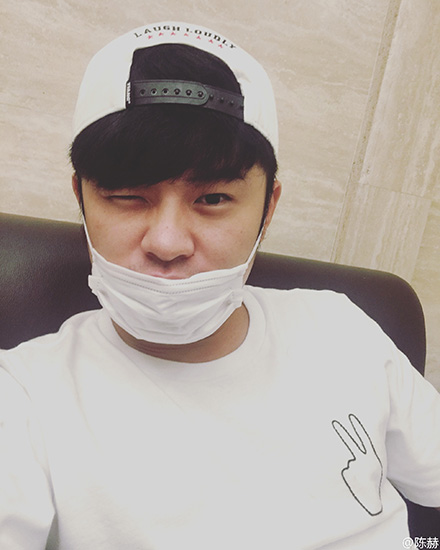face_mask: (85, 110, 258, 349)
